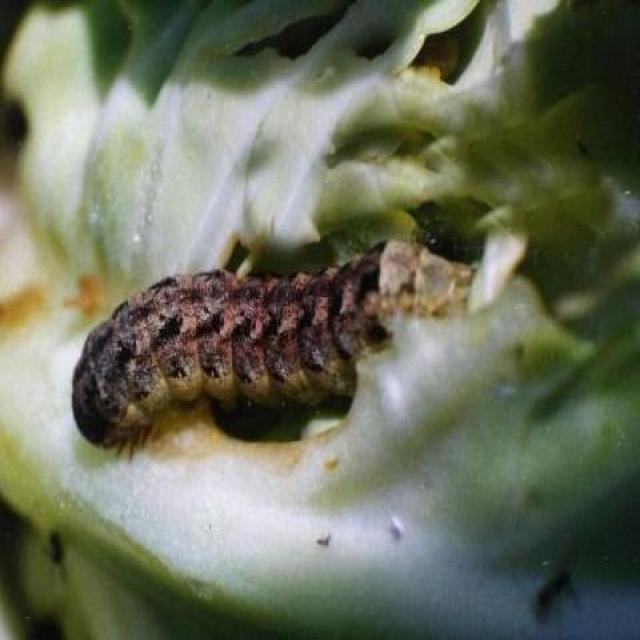armyworm: (73, 230, 480, 448)
